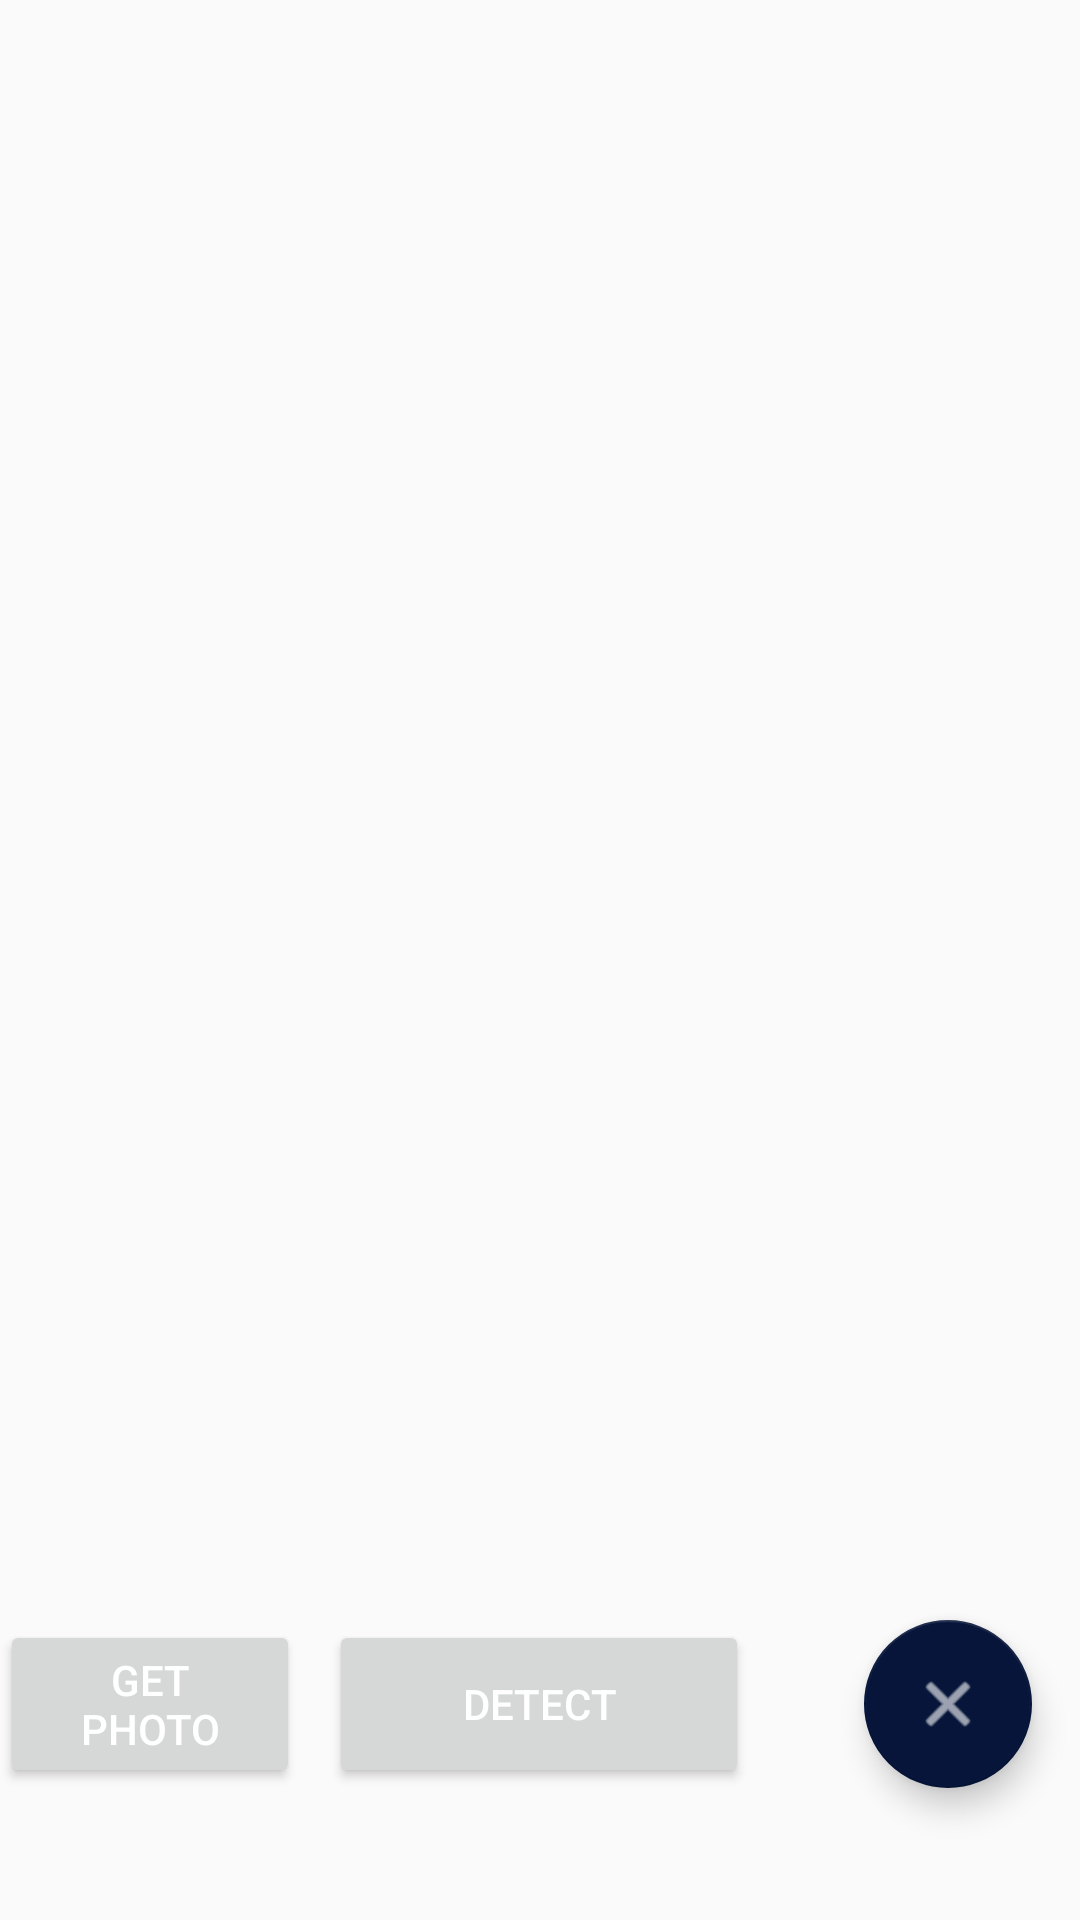

Screen size 1080x1920. Icon name, then its box in pixels as (x1,y1,x2,y2):
close clear cancel: (864,1620,1032,1788)
